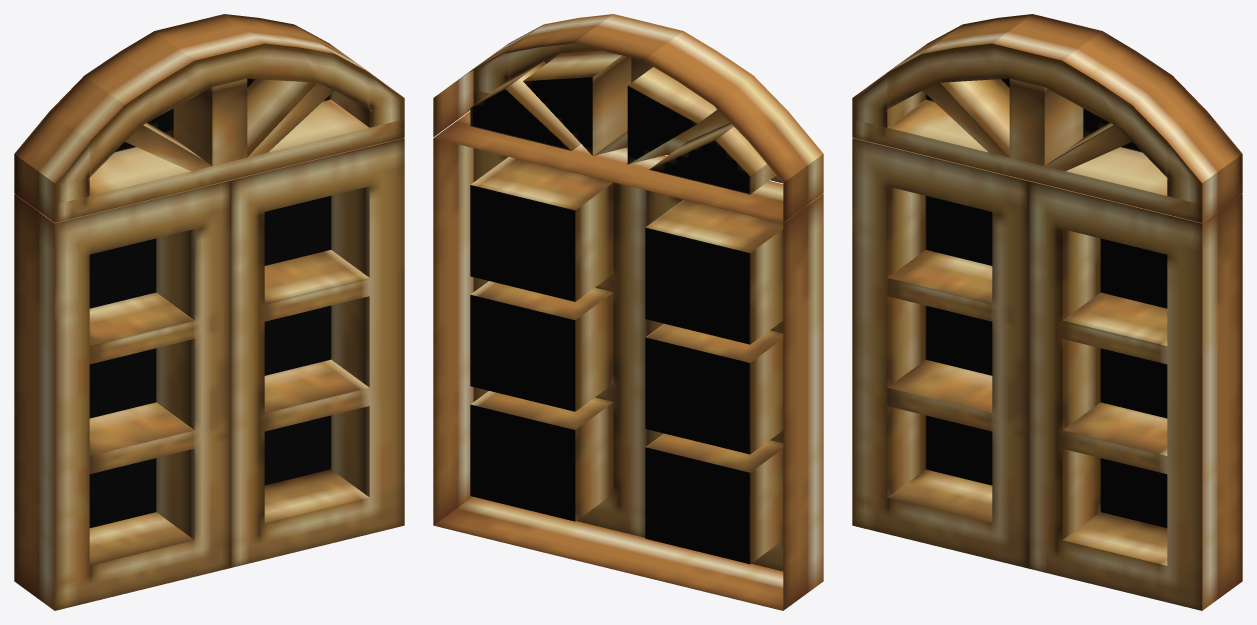
The model's file is Poly_Window_08.obj.
The picture shows the model from 3 angles, left to right: view 1: azimuth 30°, elevation 25°; view 2: azimuth 150°, elevation 25°; view 3: azimuth 330°, elevation 25°; orthographic projection.
Parts seen in each view (by area): view 1: Cube.001_Cube, Cube.002_Cube.001; view 2: Cube.001_Cube, Cube.002_Cube.001; view 3: Cube.001_Cube, Cube.002_Cube.001.
Boxes of the visible parts, x1,y1,x2,y2 form: Cube.001_Cube: [14, 138, 404, 610]; Cube.002_Cube.001: [14, 14, 404, 222]; Cube.001_Cube: [433, 111, 823, 610]; Cube.002_Cube.001: [433, 14, 823, 222]; Cube.001_Cube: [852, 138, 1242, 610]; Cube.002_Cube.001: [852, 14, 1242, 222].
Bounding box in the file's own units: 1 × 1.41 × 0.2.
1 material, 1 textured.
